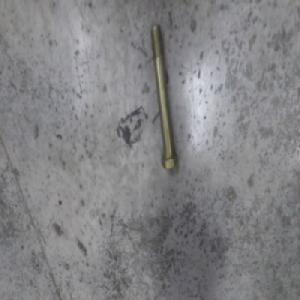Bolt: (148, 25, 178, 170)
